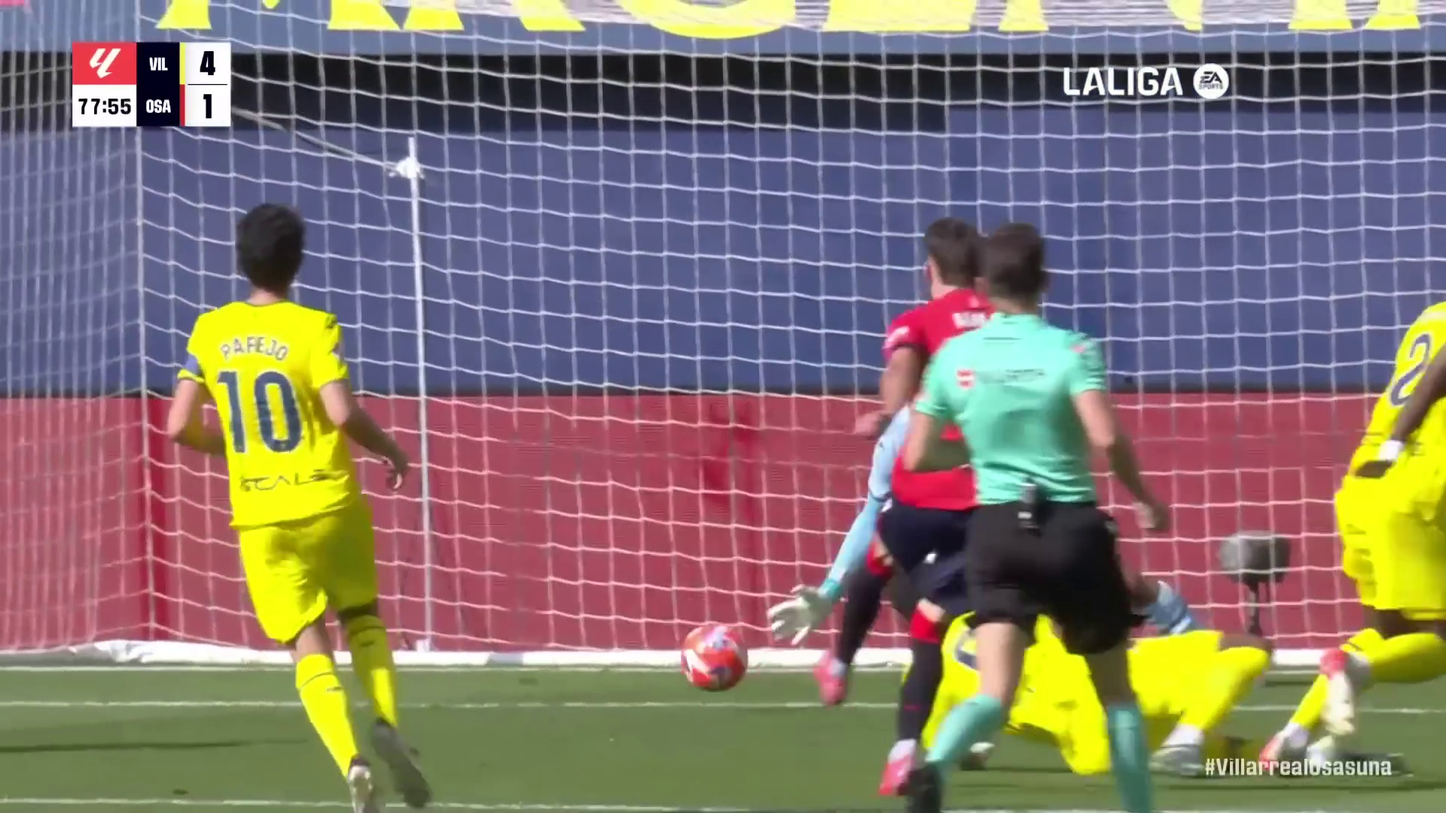ball: (660, 617, 779, 702)
player: (163, 198, 440, 813), (1257, 260, 1446, 813), (848, 216, 1007, 797), (898, 598, 1277, 770)
referee: (889, 227, 1191, 813)
